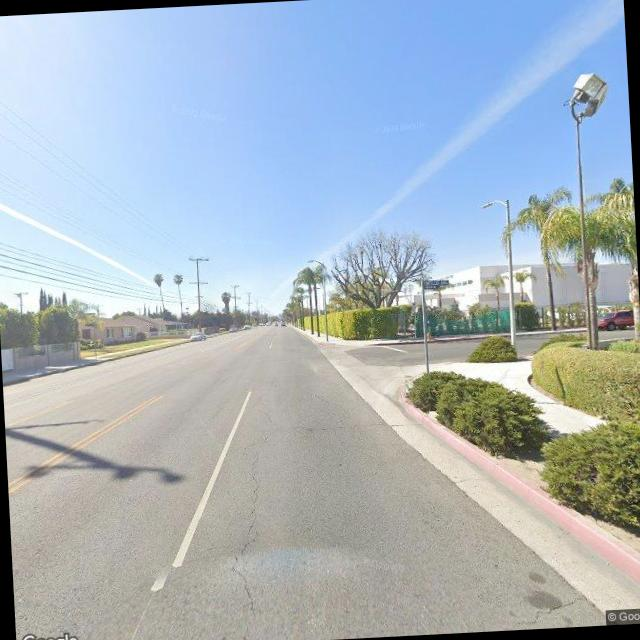pothole: (232, 414, 287, 630)
